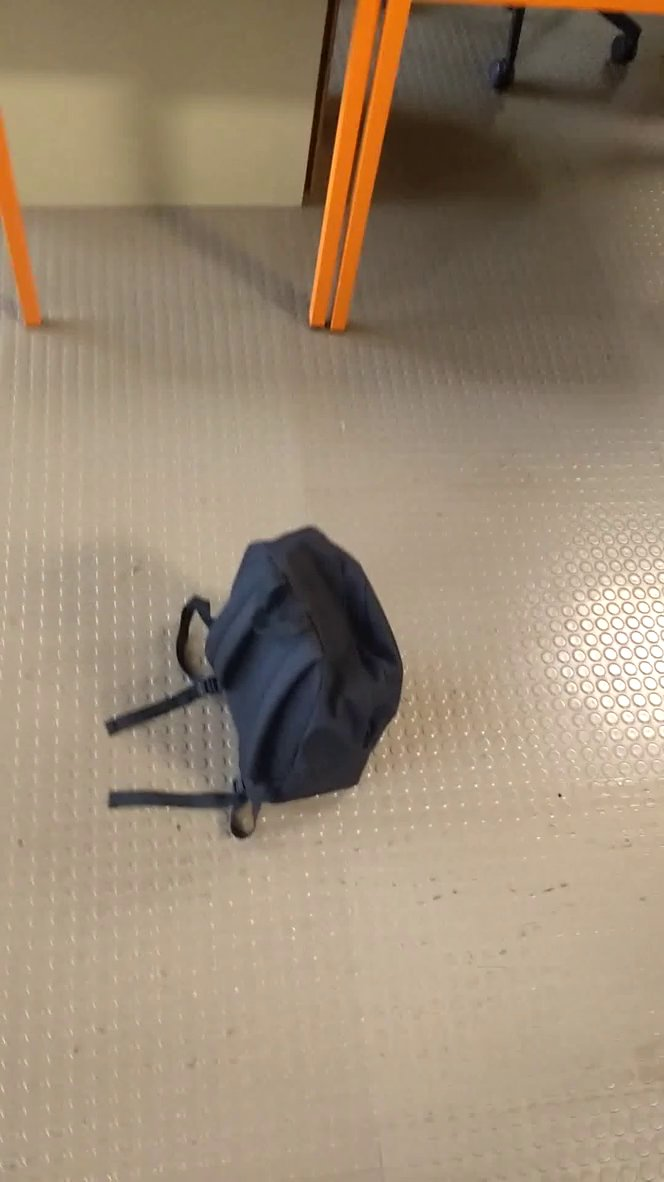bag: (91, 513, 425, 841)
